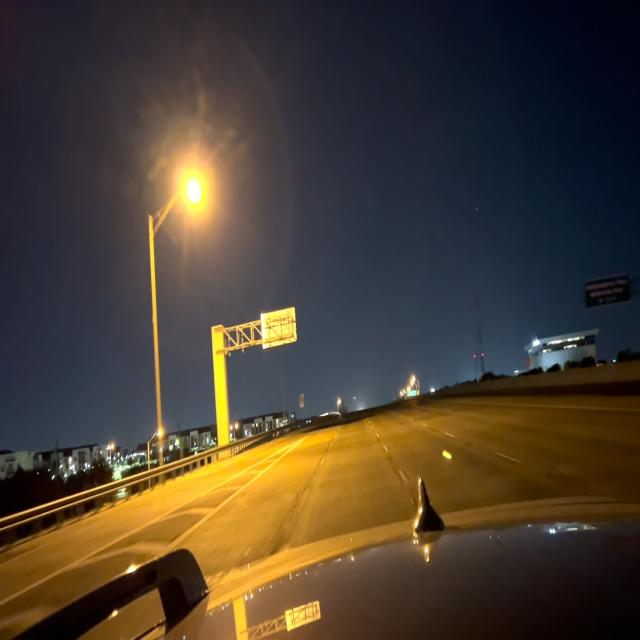back-of-sign: (260, 307, 297, 348)
